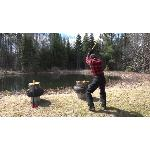Kapak: (82, 32, 106, 52)
